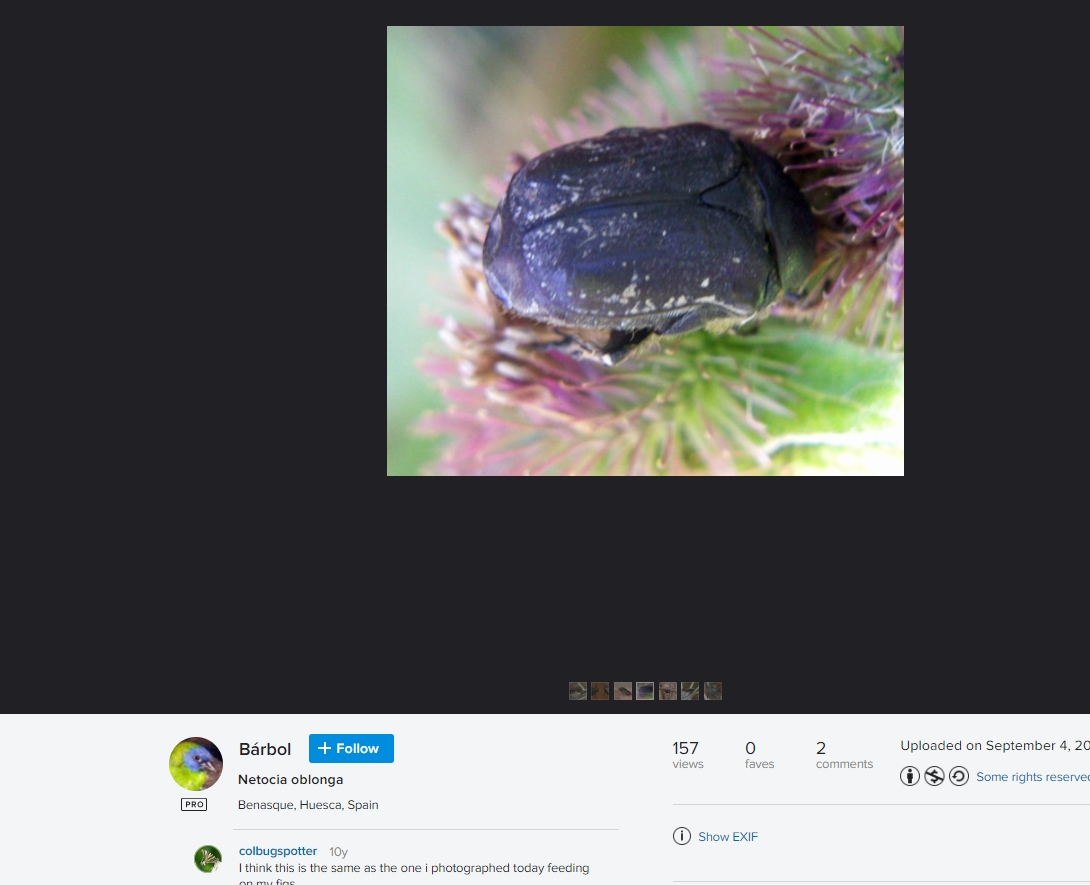Protaetia_oblonga: (468, 113, 828, 363)
